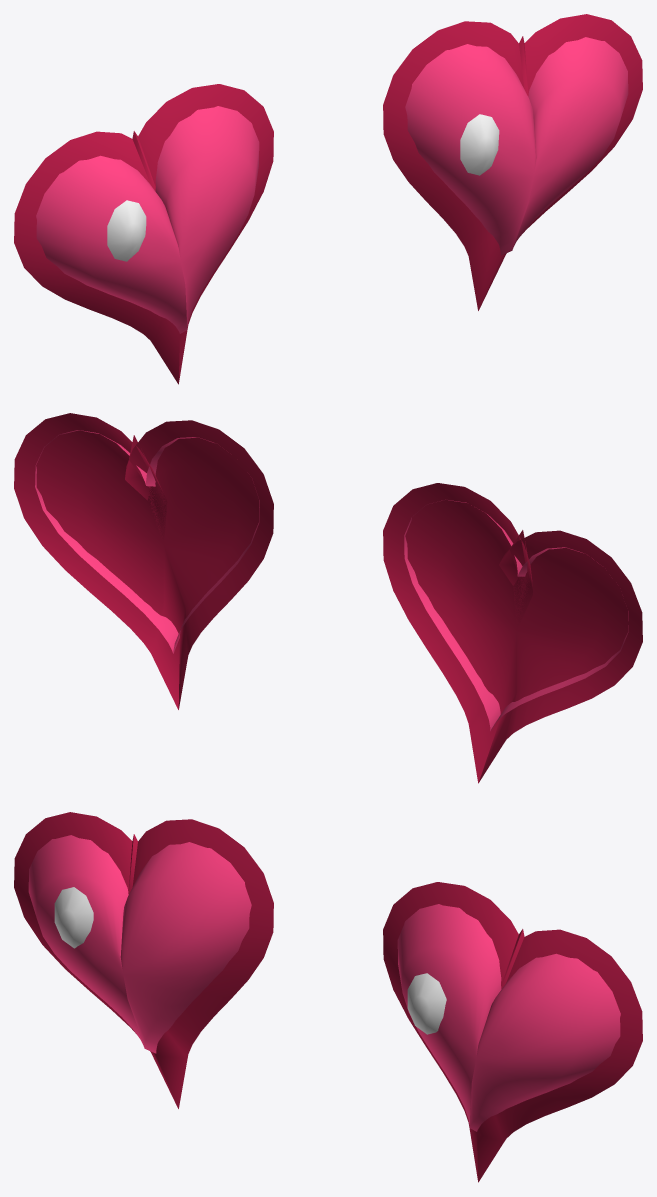
File: heart_eyes.glb
3 views of the same model, one above another, from view 1: azimuth 30°, elevation 25°; view 2: azimuth 150°, elevation 25°; view 3: azimuth 330°, elevation 25° (orthographic).
Parts seen in each view (by area): view 1: heart_eyes; view 2: heart_eyes; view 3: heart_eyes.
Boxes of the visible parts, x1,y1,x2,y2 form: heart_eyes: [14, 14, 642, 384]; heart_eyes: [14, 413, 642, 783]; heart_eyes: [14, 812, 642, 1182].
Size of the model in its own units: 0.4277 by 0.1909 by 0.038.
